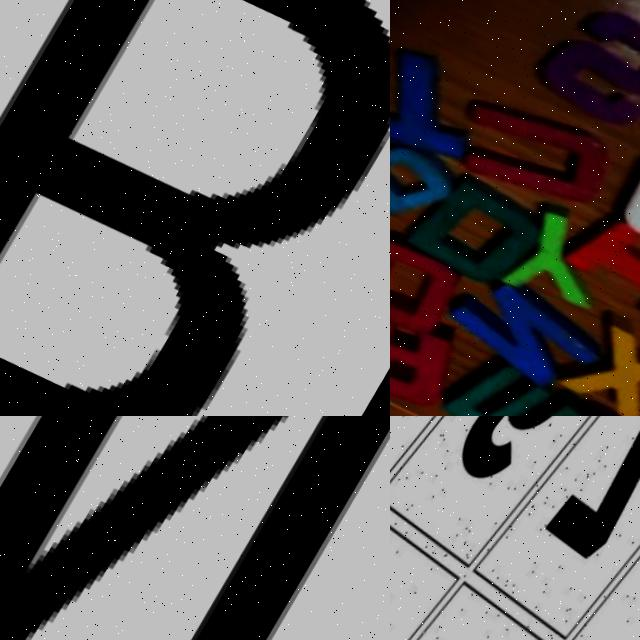6: (434, 416, 618, 518)
7: (529, 416, 640, 595)
A: (390, 291, 481, 416)
D: (394, 160, 564, 313)
I: (553, 199, 640, 368)
M: (452, 352, 608, 416)
N: (0, 416, 390, 640), (425, 249, 638, 416)
O: (390, 217, 485, 362)
P: (390, 87, 481, 257)
S: (512, 0, 640, 164)
T: (390, 38, 510, 185)
U: (433, 73, 635, 251)
X: (565, 316, 640, 416)
Y: (487, 190, 640, 343)
